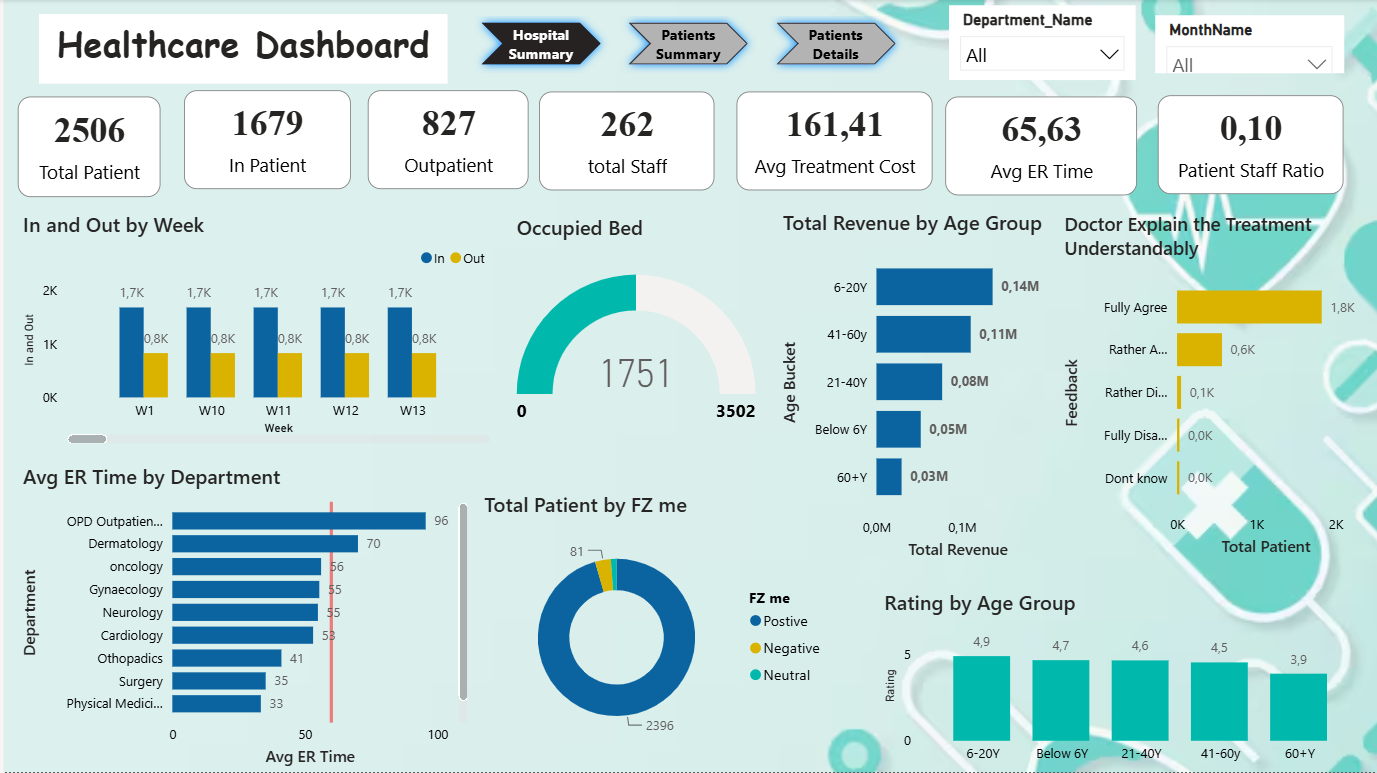

The page's visual inventory and layout, read from the dashboard file:
{"tool":"powerbi","page":{"name":"Hospital Summary ","canvas":[1280,720],"ordinal":0},"visuals":[{"type":"cardVisual","fields":{"Data":["Measure.Total Patient"]},"box":[12.3,90.5,133,93.2],"z":1000},{"type":"textbox","box":[33,13.4,380.2,64.8],"z":2000},{"type":"slicer","fields":{"Values":["Department.Department_Name"]},"box":[878.9,6.1,173.6,69.7],"z":3000},{"type":"slicer","fields":{"Values":["Calendar_date.MonthName"]},"box":[1070.8,14.7,174.8,53.8],"z":4000},{"type":"cardVisual","fields":{"Data":["Measure.In Patient"]},"box":[167.3,85,154.9,91.9],"z":5000},{"type":"cardVisual","fields":{"Data":["Measure.Outpatient"]},"box":[338.6,85,149.4,91.9],"z":6000},{"type":"cardVisual","fields":{"Data":["Bed_Detail.total Staff"]},"box":[497.7,86.4,163.2,91.9],"z":7000},{"type":"cardVisual","fields":{"Data":["Measure.Avg Treatment Cost"]},"box":[681.4,86.4,182.3,91.9],"z":8000},{"type":"cardVisual","fields":{"Data":["Measure.Avg ER Time"]},"box":[876.1,90.5,178.2,91.9],"z":9000},{"type":"cardVisual","fields":{"Data":["Bed_Detail.Patient Staff Ratio"]},"box":[1073.5,89.1,172.8,91.9],"z":10000},{"type":"clusteredColumnChart","fields":{"Y":["Calendar_date.In Patient","Calendar_date.Outpatient"],"Category":["Calendar_date.WeekName"]},"box":[12.3,196.1,444.2,222.1],"z":11000},{"type":"gauge","fields":{"Y":["Divide(Measure.Occupied Bed, ScopedEval(Measure.Occupied Bed, []))"]},"box":[471.9,200.5,232.3,231],"z":12000},{"type":"clusteredBarChart","title":"Total Revenue by Age Group","fields":{"Y":["Measure.Total Revenue"],"Category":["Detail data dataset.Age Bucket"]},"box":[720,195.6,262.8,331.3],"z":13000},{"type":"barChart","fields":{"Y":["Measure.Avg ER Time"],"Category":["Department.Department_Name"]},"box":[12.3,431.9,423.7,287.9],"z":14000},{"type":"barChart","title":"Doctor Explain the Treatment Understandably","fields":{"Y":["Measure.Total Patient"],"Category":["Detail data dataset.Feedback"]},"box":[981.2,197.5,287.5,326.2],"z":15000},{"type":"columnChart","title":"Rating by Age Group","fields":{"Y":["Measure.Rating"],"Category":["Detail data dataset.Age Bucket"]},"box":[814.4,548.4,453.8,171.4],"z":16000},{"type":"donutChart","fields":{"Y":["Measure.Total Patient"],"Category":["Detail data dataset.FZ me"]},"box":[441.3,457.2,331.3,249.4],"z":17000},{"type":"pageNavigator","box":[436.4,13.4,402.2,55],"z":18000}]}

Visuals, with their boxes in screenshot pixels (x1, y1, x2, y2), scaled from the page's 1280x720 canvas onto the 1377x773 screenshot:
cardVisual - Measure.Total Patient: {"left": 13, "top": 97, "right": 156, "bottom": 197}
textbox: {"left": 36, "top": 14, "right": 445, "bottom": 84}
slicer - Department.Department_Name: {"left": 946, "top": 7, "right": 1132, "bottom": 81}
slicer - Calendar_date.MonthName: {"left": 1152, "top": 16, "right": 1340, "bottom": 74}
cardVisual - Measure.In Patient: {"left": 180, "top": 91, "right": 347, "bottom": 190}
cardVisual - Measure.Outpatient: {"left": 364, "top": 91, "right": 525, "bottom": 190}
cardVisual - Bed_Detail.total Staff: {"left": 535, "top": 93, "right": 711, "bottom": 191}
cardVisual - Measure.Avg Treatment Cost: {"left": 733, "top": 93, "right": 929, "bottom": 191}
cardVisual - Measure.Avg ER Time: {"left": 942, "top": 97, "right": 1134, "bottom": 196}
cardVisual - Bed_Detail.Patient Staff Ratio: {"left": 1155, "top": 96, "right": 1341, "bottom": 194}
clusteredColumnChart - Calendar_date.In Patient x Calendar_date.Outpatient: {"left": 13, "top": 211, "right": 491, "bottom": 449}
gauge - Divide(Measure.Occupied Bed, ScopedEval(Measure.Occupied Bed, [])): {"left": 508, "top": 215, "right": 758, "bottom": 463}
"Total Revenue by Age Group" clusteredBarChart: {"left": 775, "top": 210, "right": 1057, "bottom": 566}
barChart - Measure.Avg ER Time x Department.Department_Name: {"left": 13, "top": 464, "right": 469, "bottom": 772}
"Doctor Explain the Treatment Understandably" barChart: {"left": 1056, "top": 212, "right": 1365, "bottom": 562}
"Rating by Age Group" columnChart: {"left": 876, "top": 589, "right": 1364, "bottom": 772}
donutChart - Measure.Total Patient x Detail data dataset.FZ me: {"left": 475, "top": 491, "right": 831, "bottom": 759}
pageNavigator: {"left": 469, "top": 14, "right": 902, "bottom": 73}
